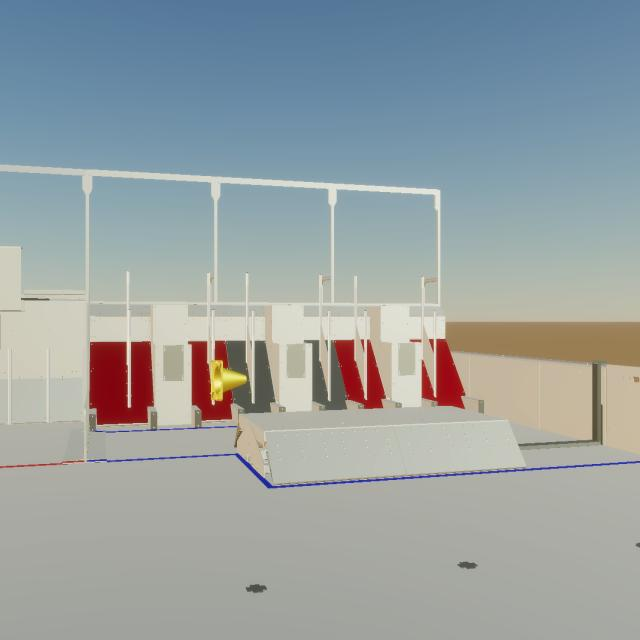frc_cone: (210, 360, 247, 401)
